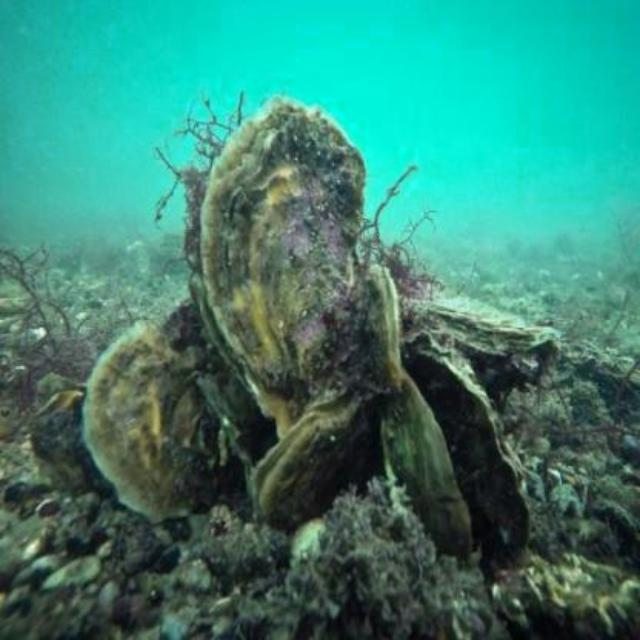Oyster-Closed: (190, 107, 377, 433), (88, 321, 239, 524), (407, 288, 562, 356), (357, 260, 408, 395)
Oyster-Open: (381, 333, 530, 565), (256, 388, 376, 531)
